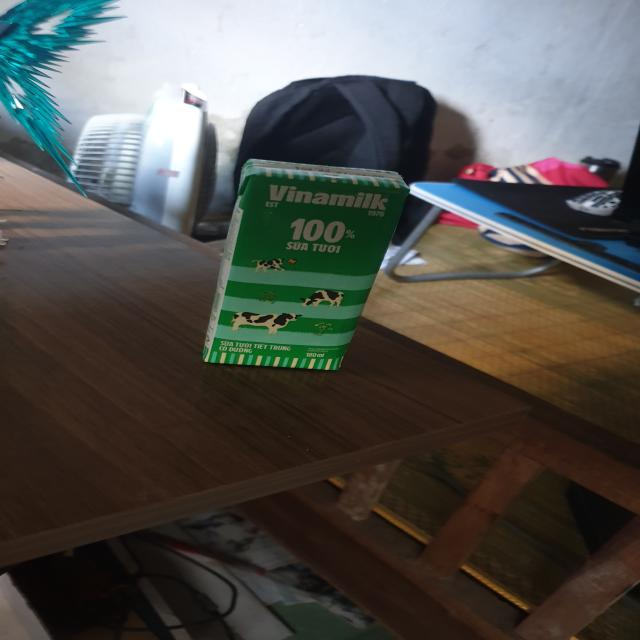Vina: (196, 157, 419, 373)
